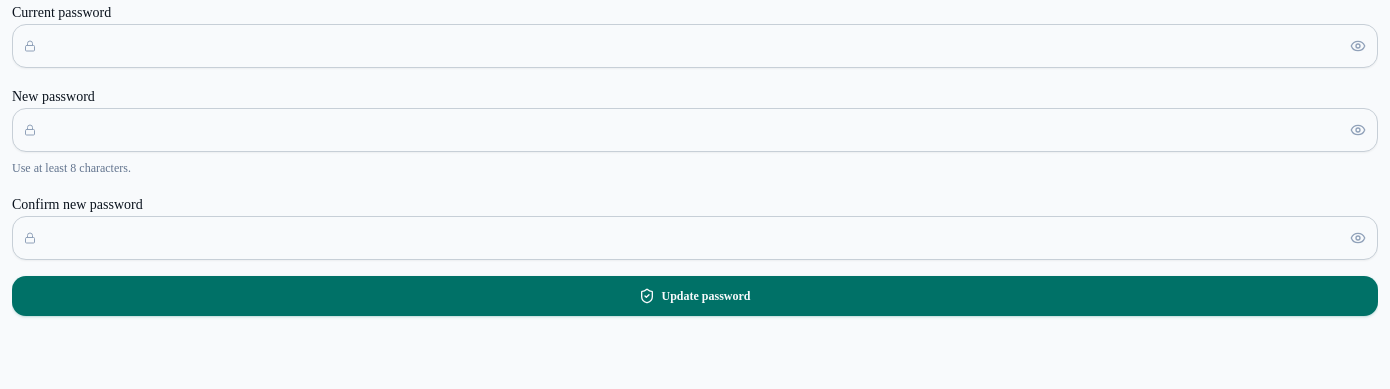
Test case: ChangePasswordForm › maps an invalid current password error to a friendly message
Type "wrong-current" into the password field labelled "Current password". click: coordinates (695, 46)
box: [12,24,1378,68]
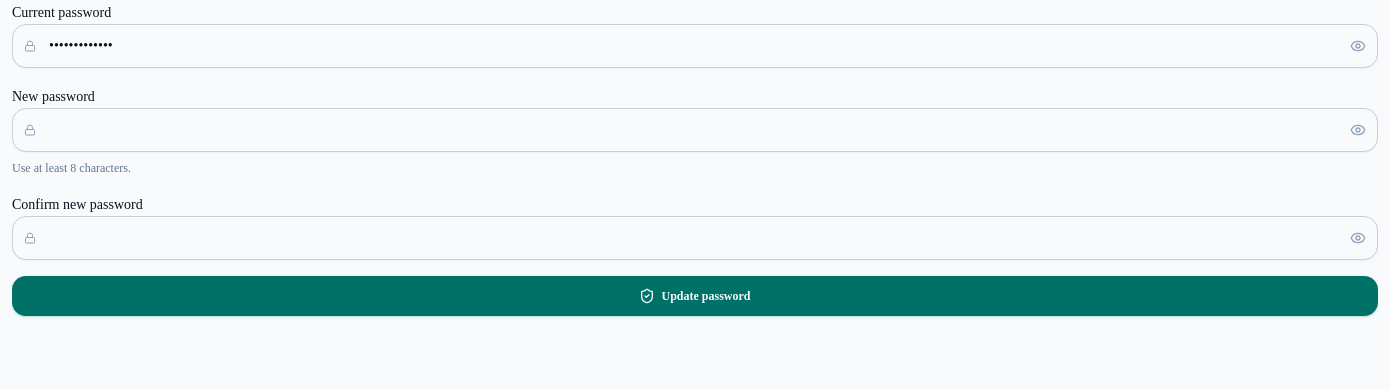
Type "new-password-456" into the password field labelled "New password". click: coordinates (695, 130)
box: [12,108,1378,152]
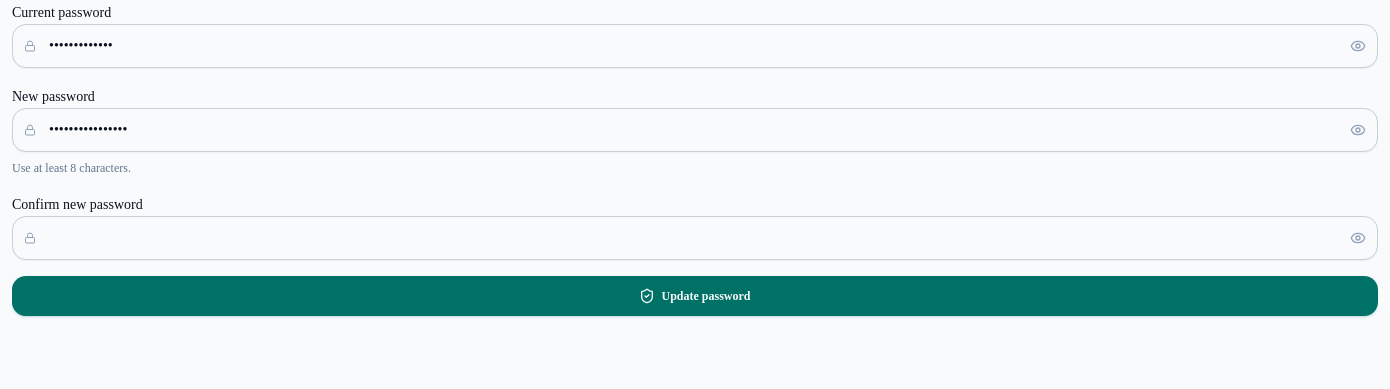
Type "new-password-456" into the password field labelled "Confirm new password". click: coordinates (695, 238)
box: [12,216,1378,260]
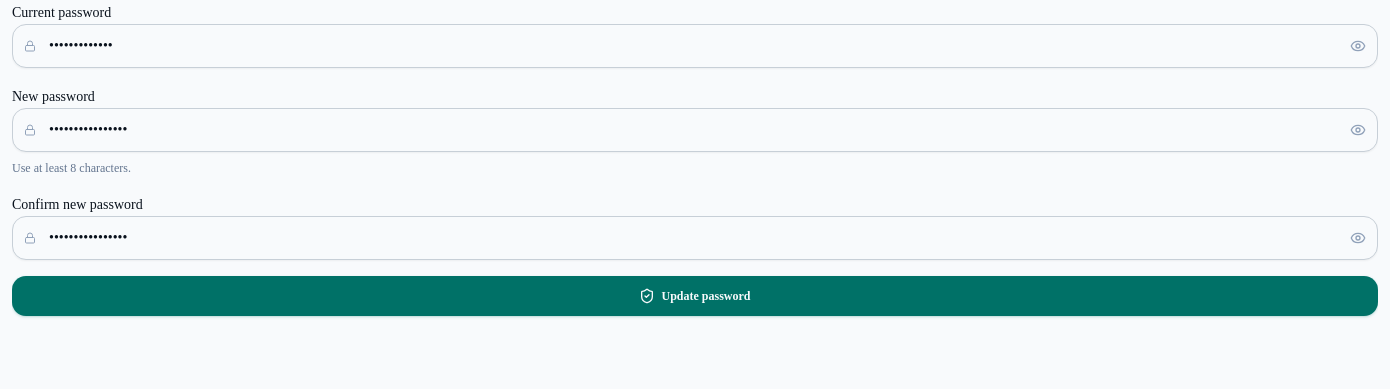
Click the button "Update password". click: coordinates (695, 296)
box: [12,276,1378,316]
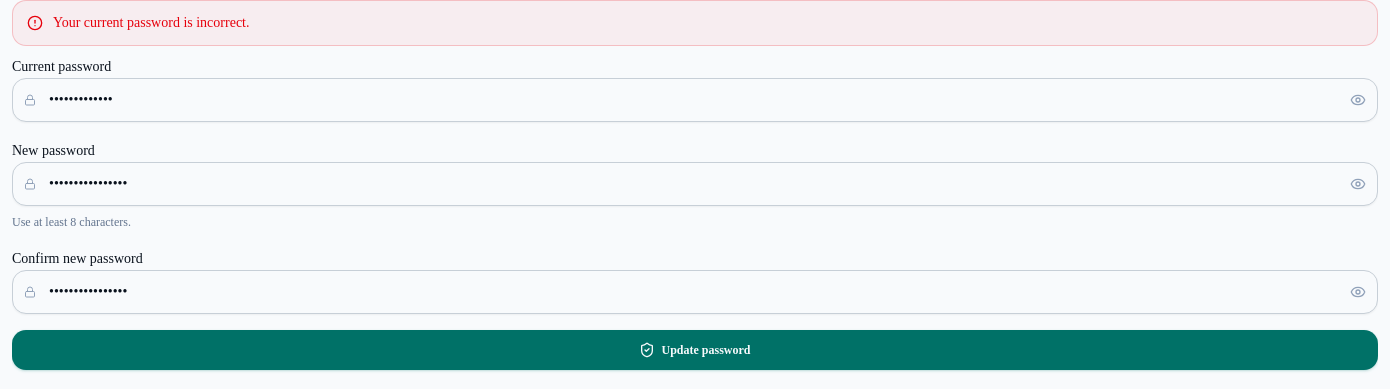
Expected: the text "Your current password is incorrect." is shown, [53,13,250,33]
